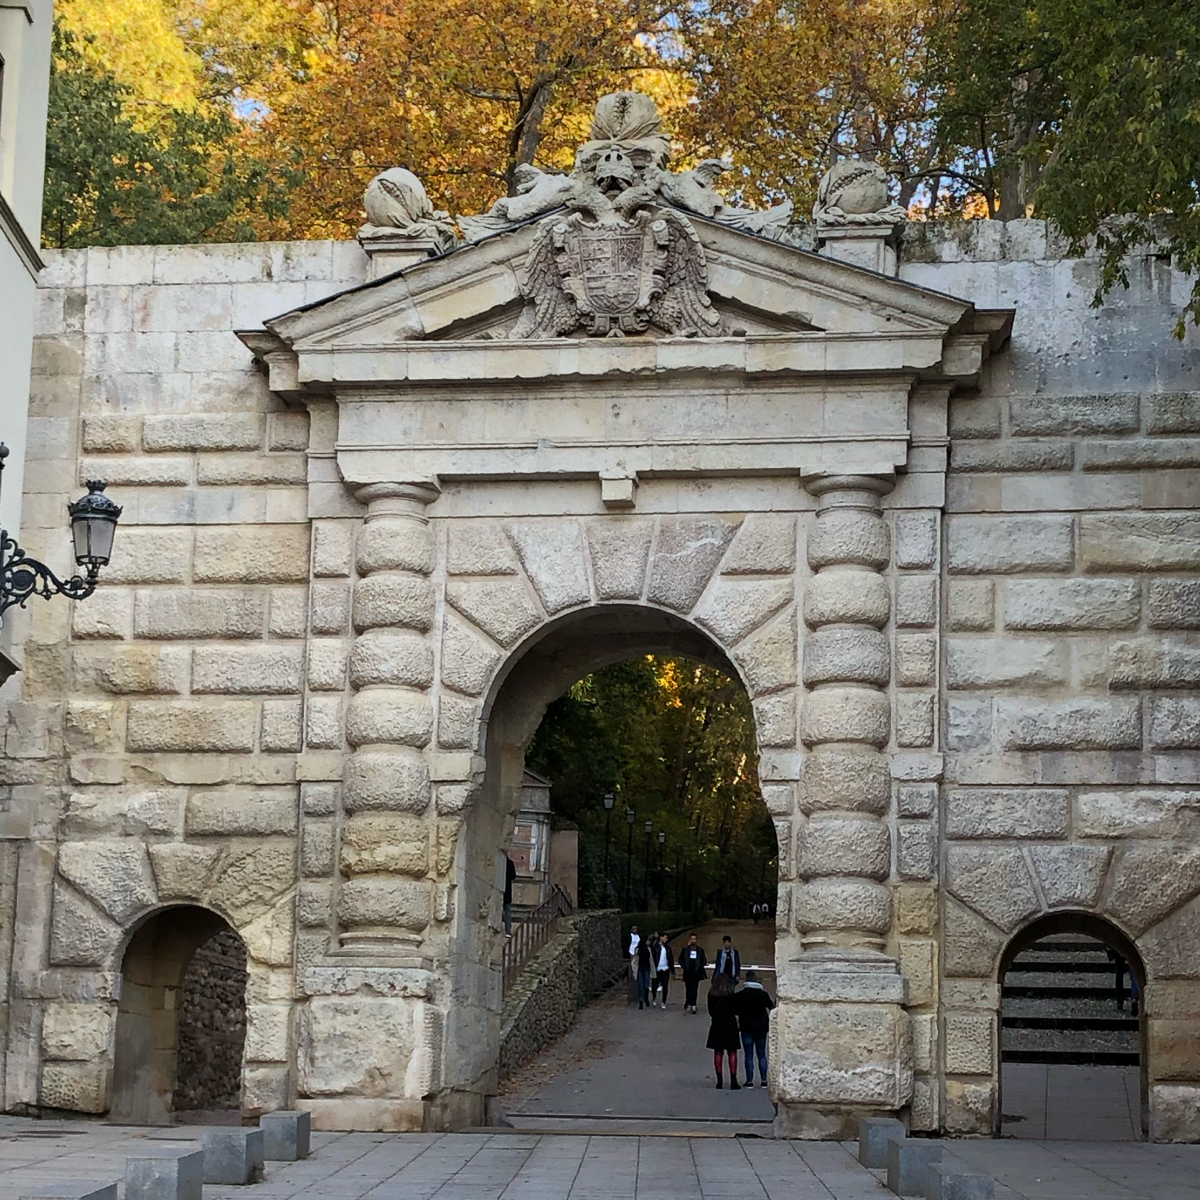arco-medio-punto: (466, 585, 771, 812), (990, 897, 1153, 1010), (110, 893, 255, 986)
fronton: (263, 192, 958, 378)
